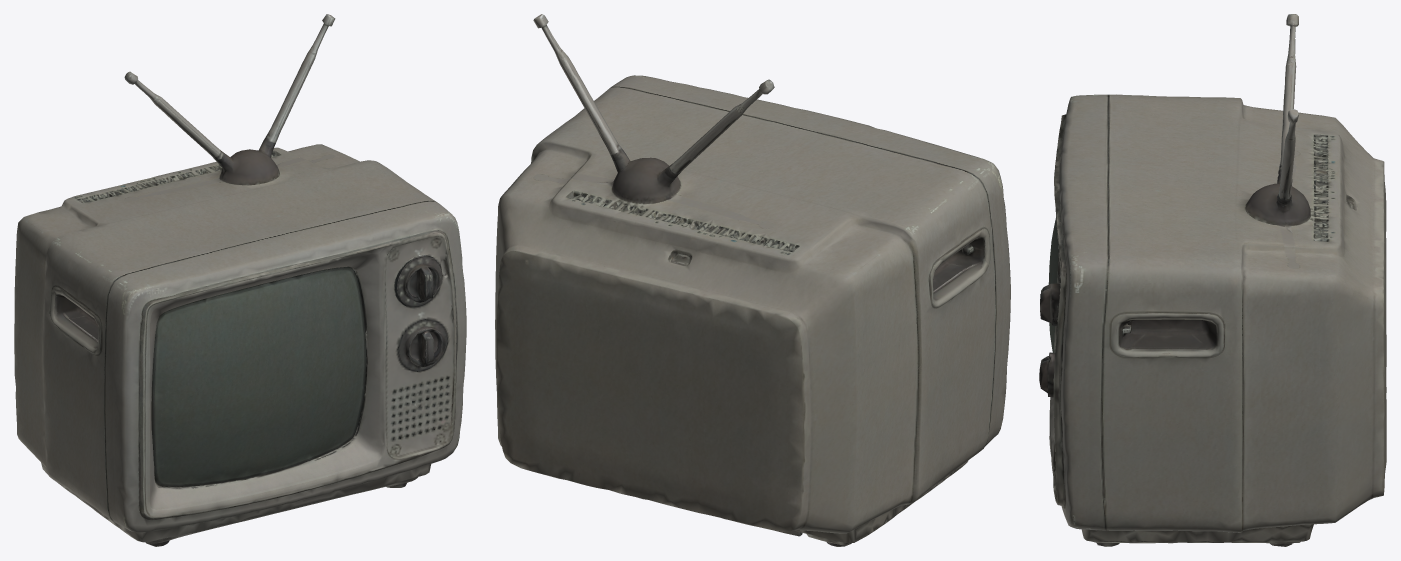
Rendered from CrtTv.glb.
The picture shows the model from 3 angles, left to right: view 1: azimuth 30°, elevation 25°; view 2: azimuth 150°, elevation 25°; view 3: azimuth 270°, elevation 25°; orthographic projection. The views are drawn at different scales.
Visible parts, largest first — view 1: texture_mapping; view 2: texture_mapping; view 3: texture_mapping.
Part boxes in pixels (left/top/right/bottom): texture_mapping: left=14, top=14, right=466, bottom=546; texture_mapping: left=495, top=14, right=1010, bottom=546; texture_mapping: left=1039, top=14, right=1386, bottom=546.
Bounding box in the file's own units: 0.9067 × 1 × 0.7117.
1 material, 1 textured.
